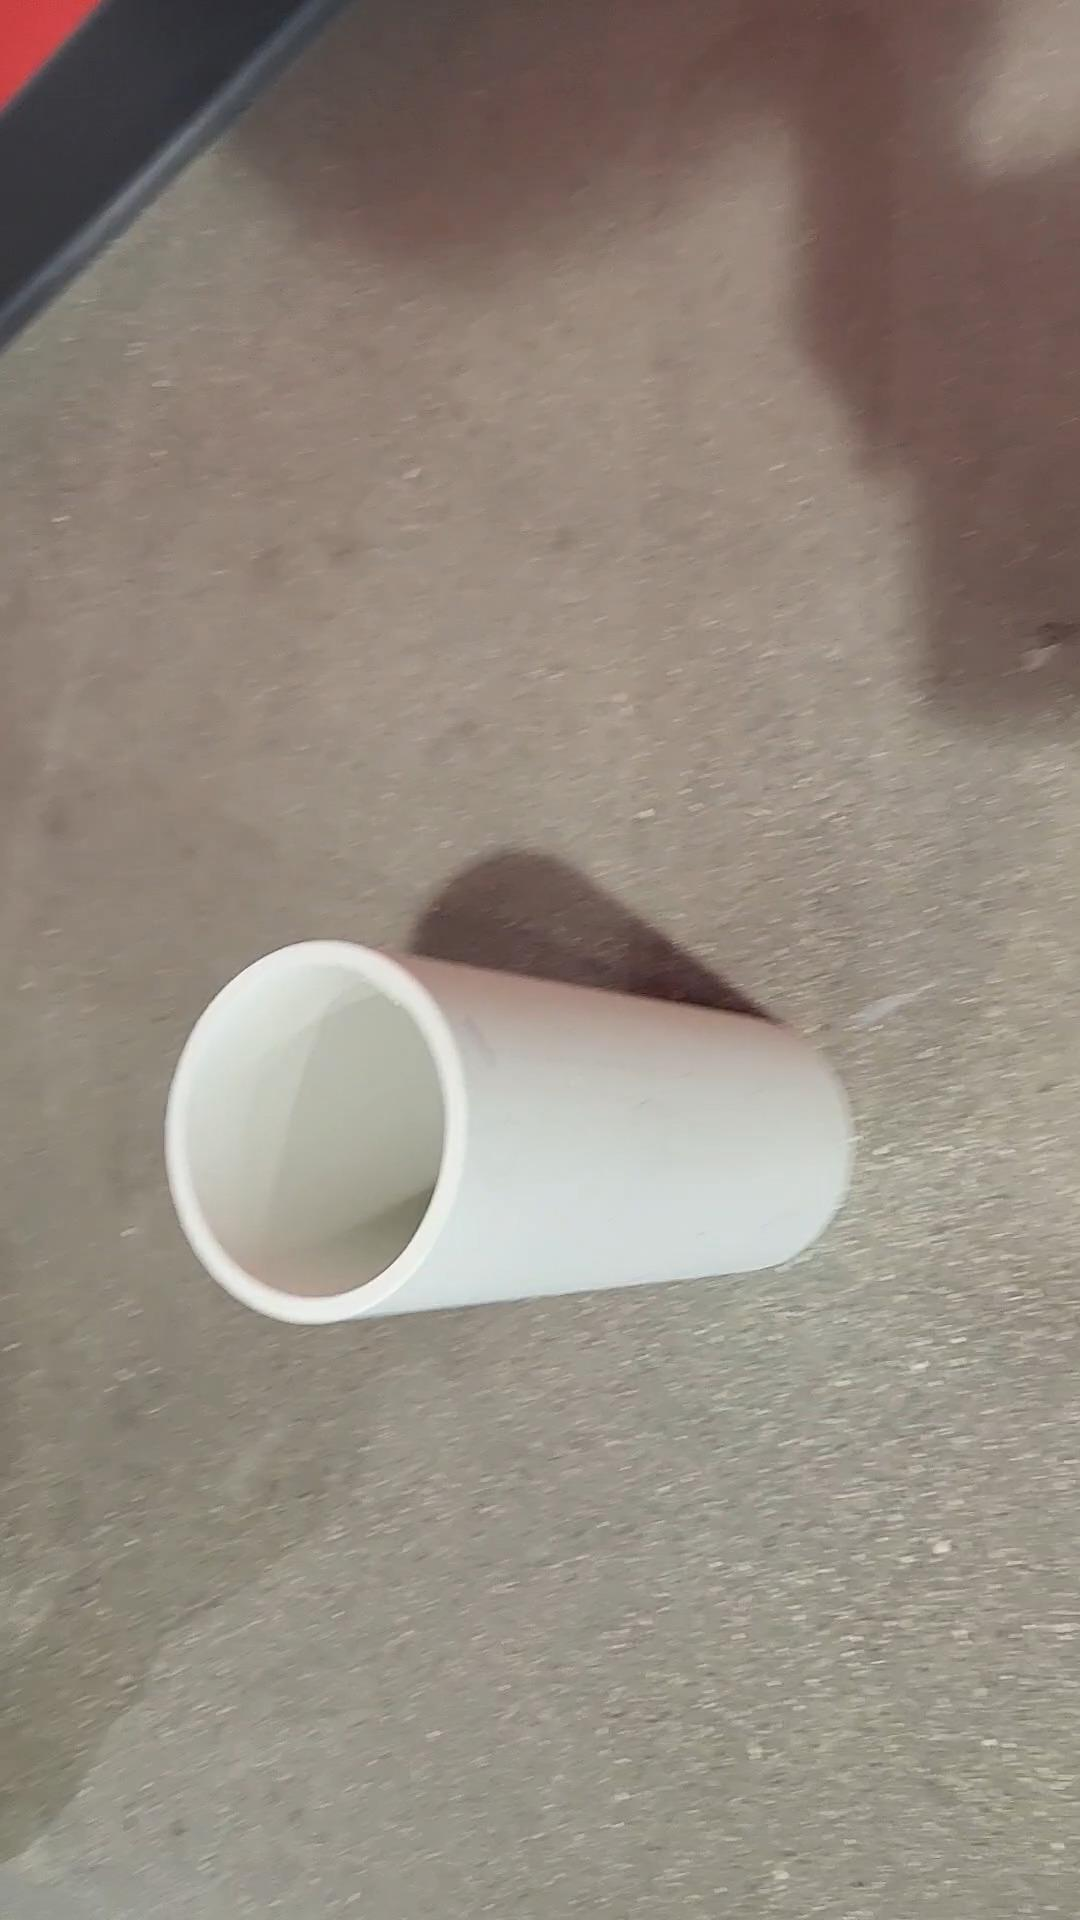coral: (167, 945, 848, 1328)
